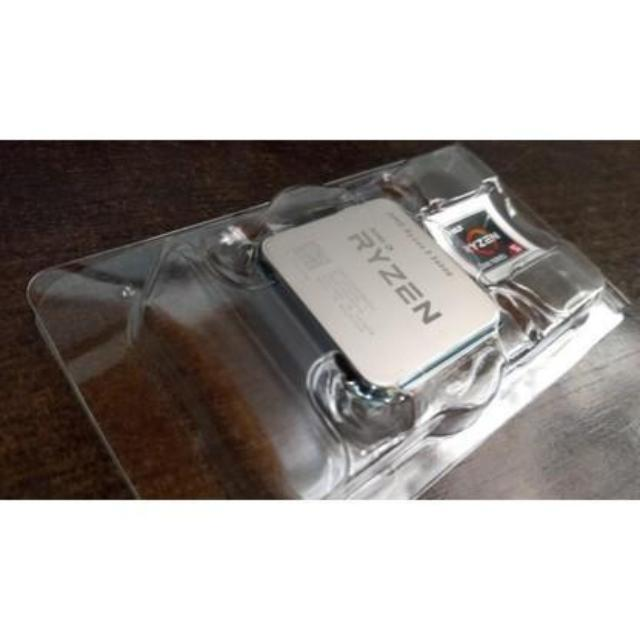CPU: (272, 197, 498, 388)
